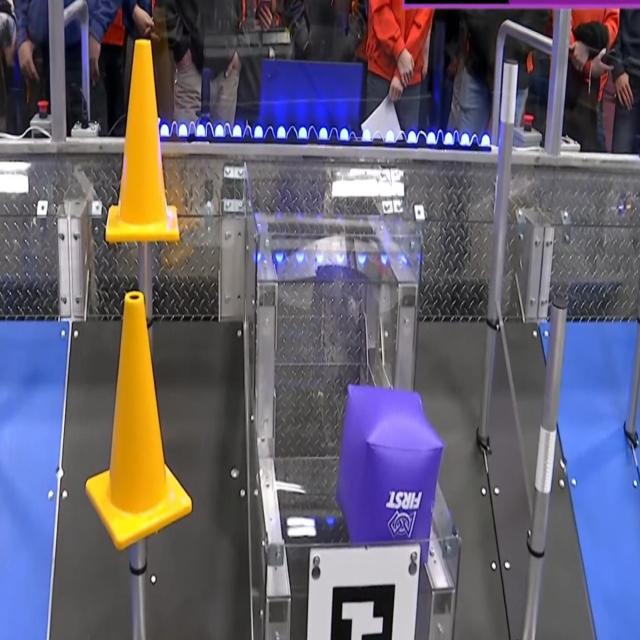frc_cone: (84, 292, 192, 552), (106, 37, 179, 241)
frc_cube: (337, 383, 443, 562)
